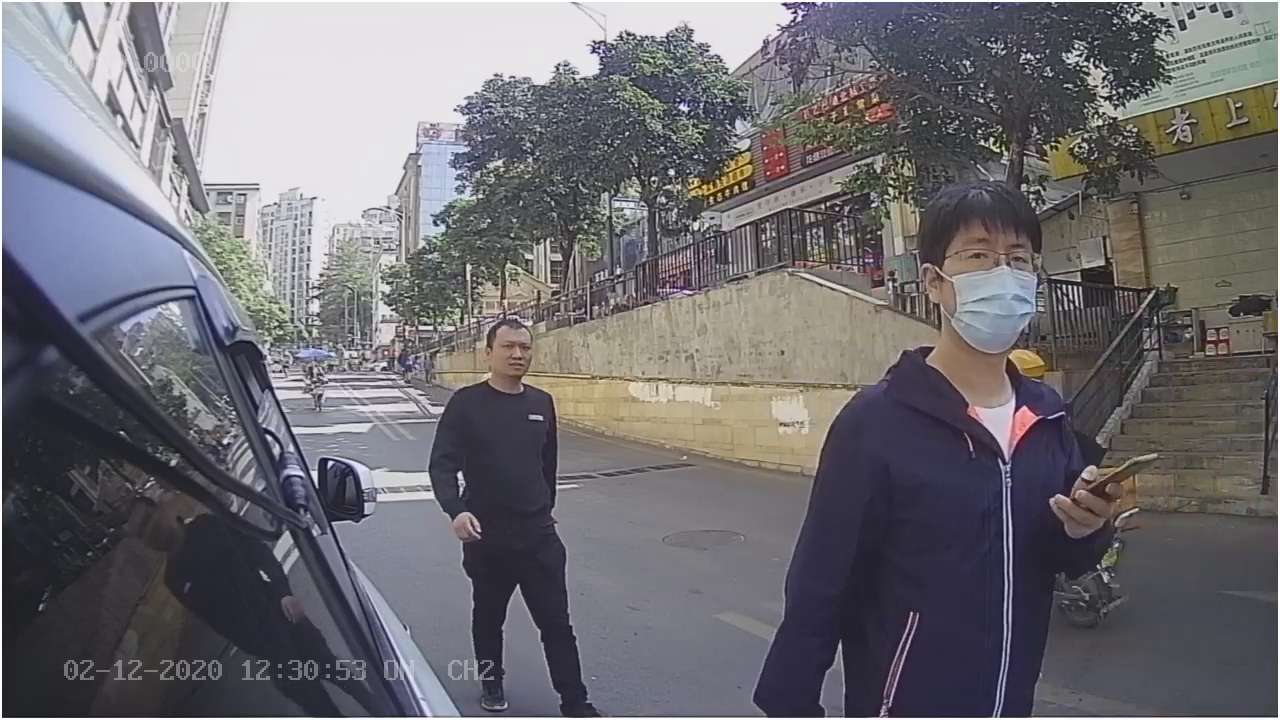person: (790, 173, 1122, 580), (422, 314, 563, 542)
